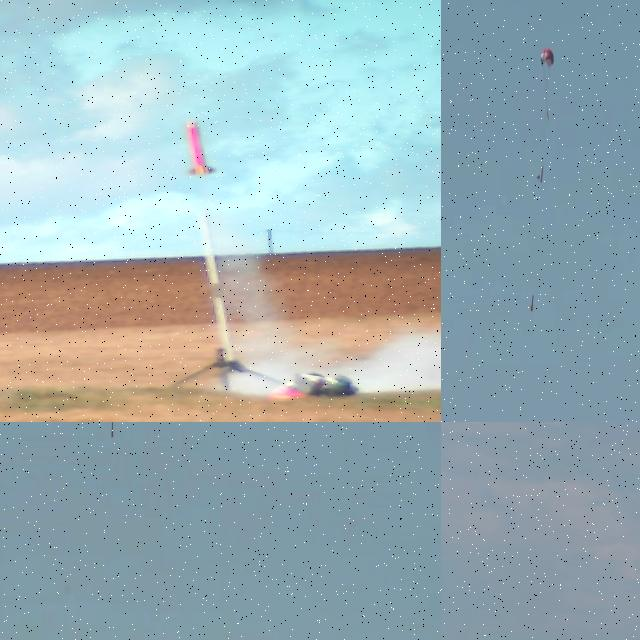Rocket: (184, 120, 218, 176), (530, 295, 534, 312), (110, 422, 113, 437)
